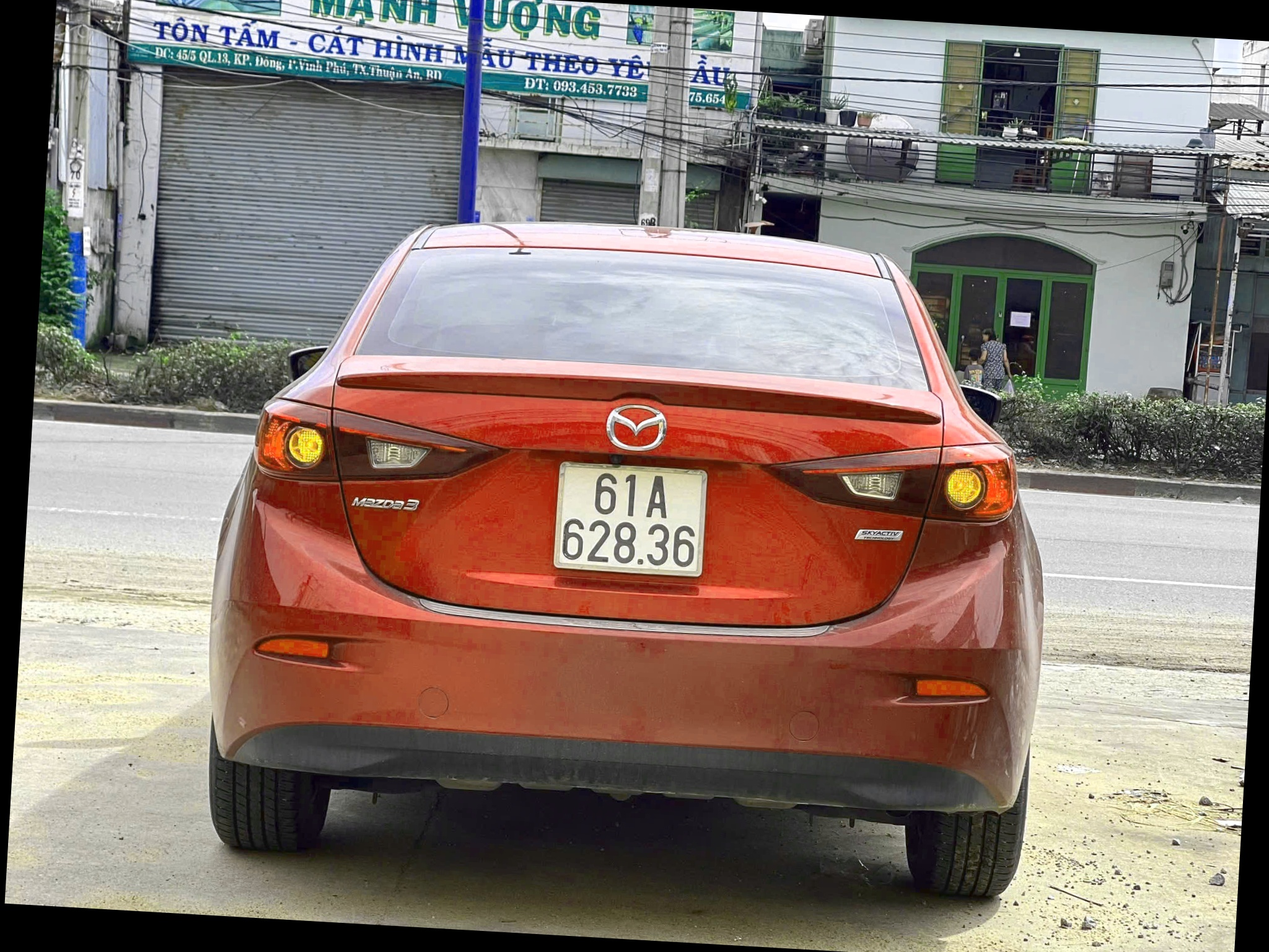Bien-so: (572, 485, 731, 617)
